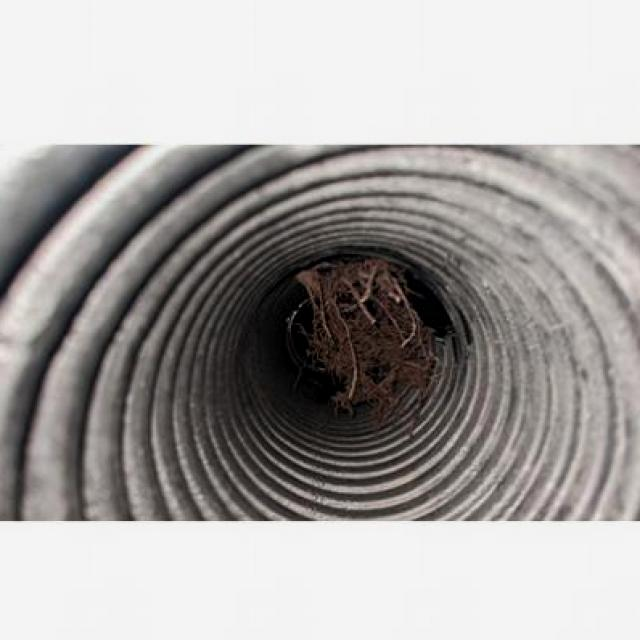root: (293, 263, 442, 408)
